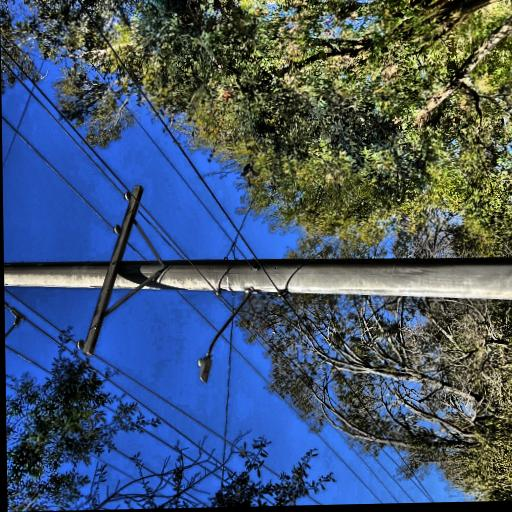pole: (64, 0, 136, 511)
street light: (12, 327, 101, 399)
